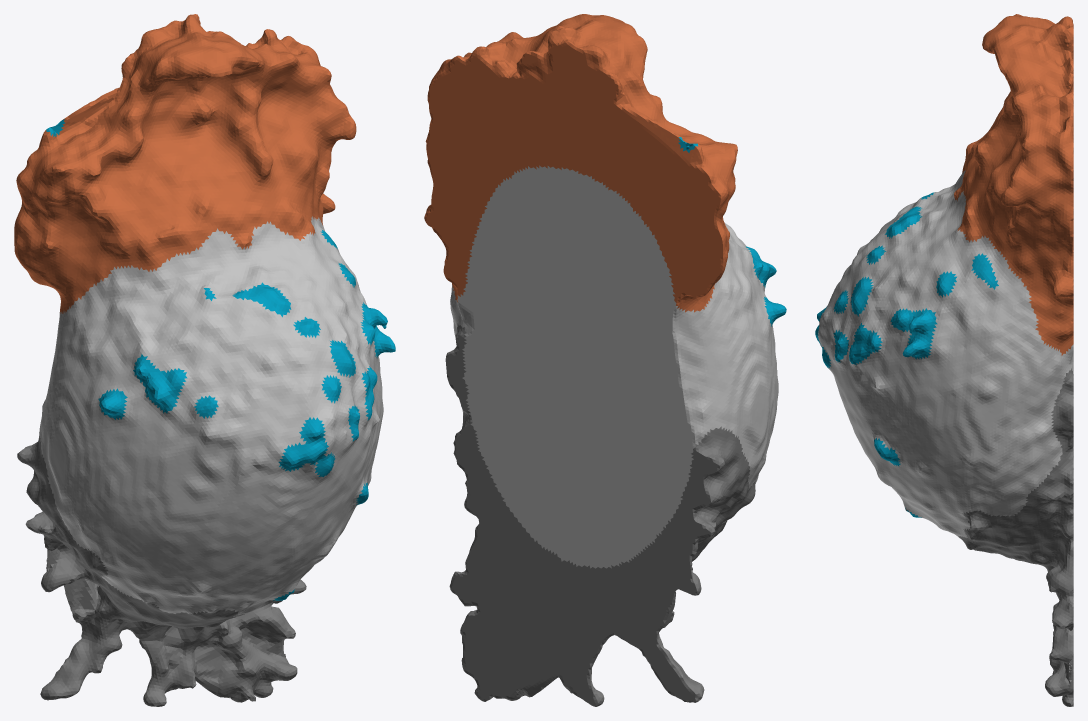
3 renders of one model, left to right at view 1: azimuth 30°, elevation 25°; view 2: azimuth 150°, elevation 25°; view 3: azimuth 270°, elevation 25°, orthographic. The views are drawn at different scales.
Size of the model in its own units: 84.17 by 181 by 65.61.
